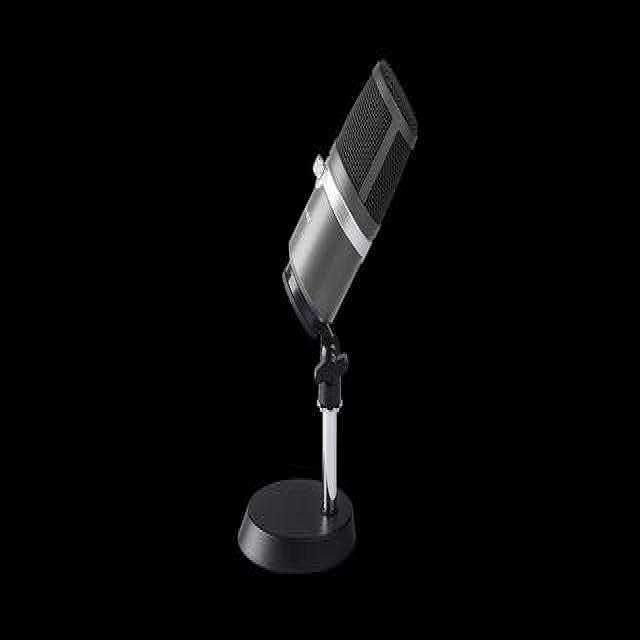microphone: (284, 61, 418, 340)
